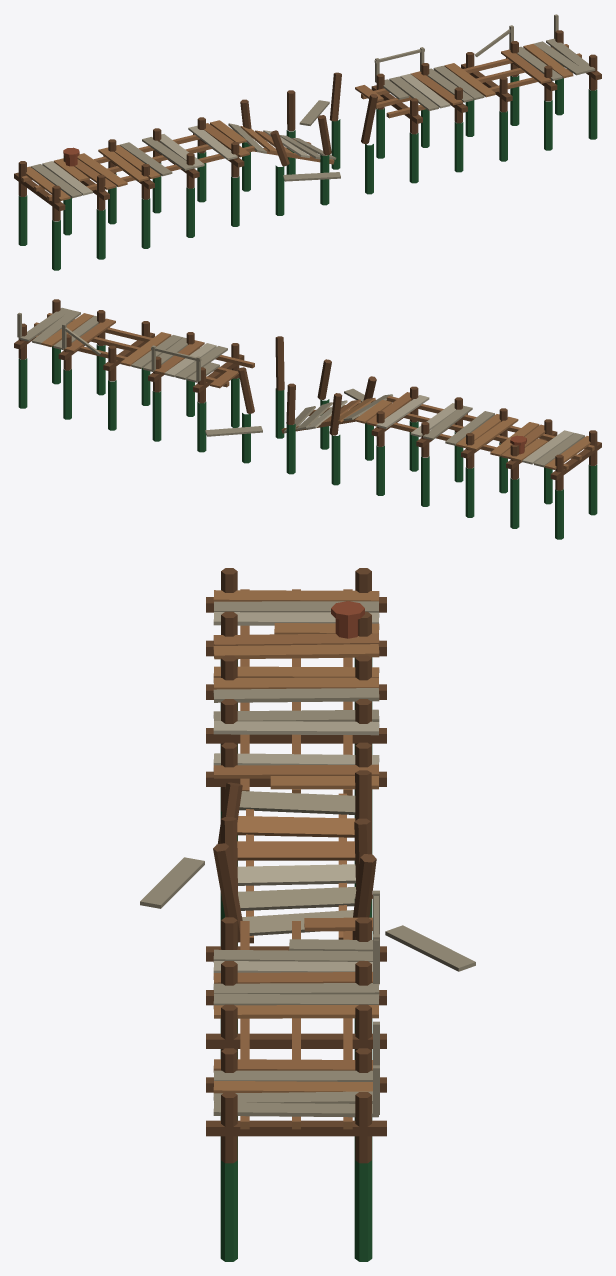
Rendered from jetty_ruin.glb.
3 renders of one model, top to bottom at view 1: azimuth 30°, elevation 25°; view 2: azimuth 150°, elevation 25°; view 3: azimuth 270°, elevation 25°, orthographic. The views are drawn at different scales.
Visible parts, largest first — view 1: jetty_ruin; view 2: jetty_ruin; view 3: jetty_ruin.
Boxes of the visible parts, left/top/right/bottom form: jetty_ruin: left=14, top=14, right=601, bottom=270; jetty_ruin: left=14, top=299, right=601, bottom=539; jetty_ruin: left=140, top=568, right=475, bottom=1261.
Size of the model in its own units: 24.4 by 4.2 by 6.51.
